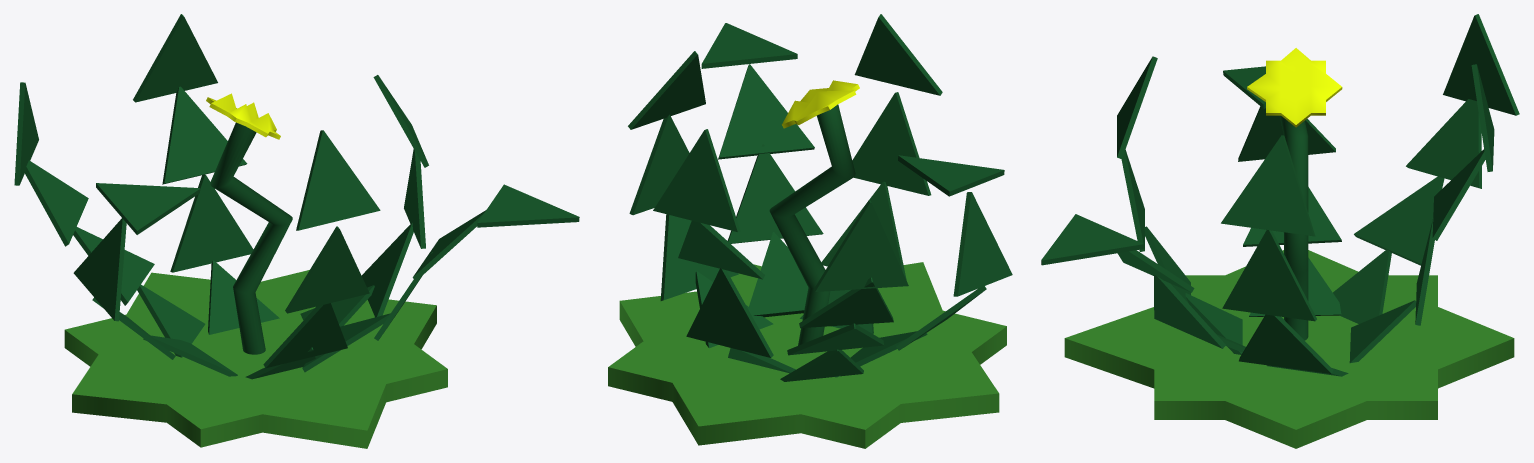
File: WeedsAlive.fbx
The picture shows the model from 3 angles, left to right: view 1: azimuth 30°, elevation 25°; view 2: azimuth 150°, elevation 25°; view 3: azimuth 270°, elevation 25°; orthographic projection. The views are drawn at different scales.
Parts seen in each view (by area): view 1: WeedsAlive; view 2: WeedsAlive; view 3: WeedsAlive.
Boxes of the visible parts, box(x1,y1,x2,y2) form: WeedsAlive: box(14, 14, 579, 448); WeedsAlive: box(608, 14, 1012, 448); WeedsAlive: box(1041, 14, 1519, 448).
Size of the model in its own units: 73.17 by 52.26 by 75.62.
